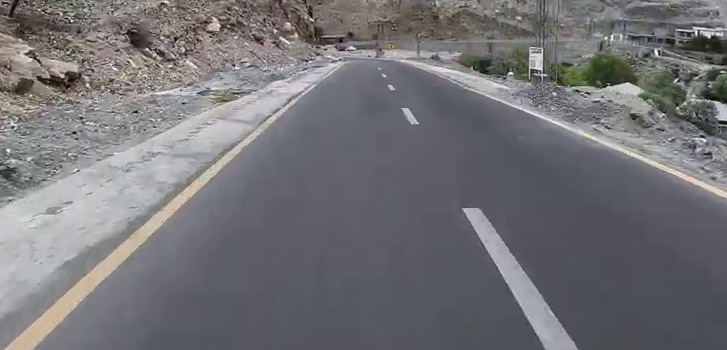left: (282, 78, 636, 331)
